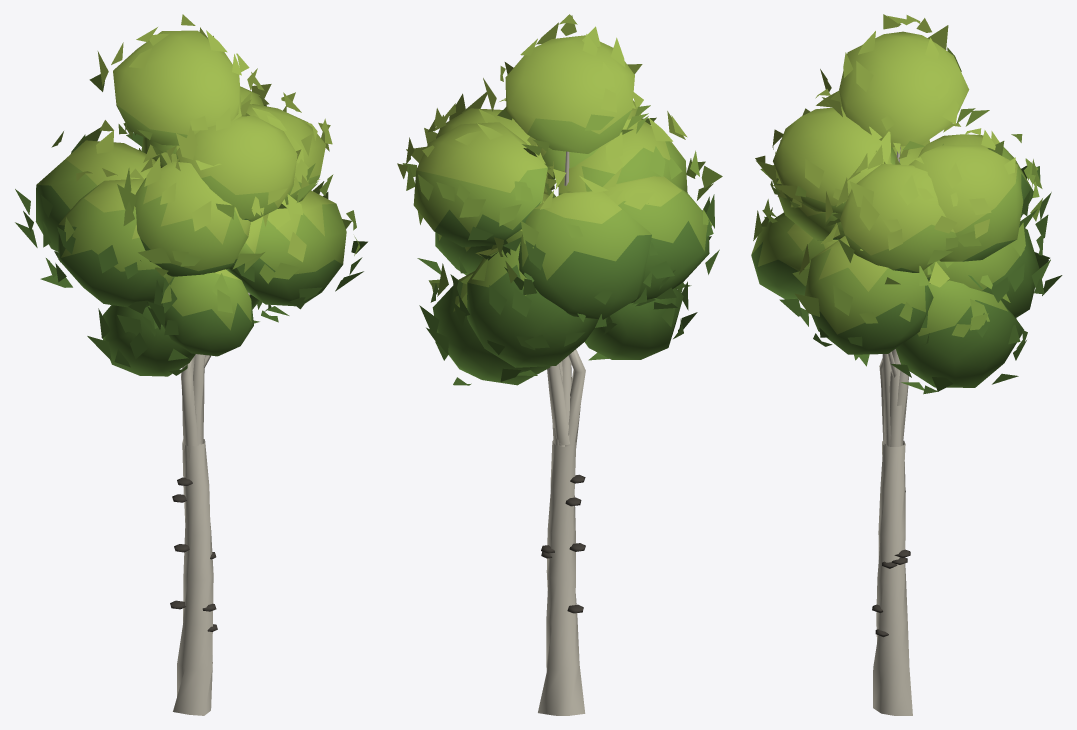
Rendered from BirchA.glb.
3 views of the same model, side by side, from view 1: azimuth 30°, elevation 25°; view 2: azimuth 150°, elevation 25°; view 3: azimuth 270°, elevation 25° (orthographic).
Visible parts, largest first — view 1: BirchA.leafLight, BirchA.leafMid, BirchA.leafDark, BirchA.bark, BirchA.barkMark; view 2: BirchA.leafDark, BirchA.leafLight, BirchA.leafMid, BirchA.bark, BirchA.barkMark; view 3: BirchA.leafLight, BirchA.leafMid, BirchA.leafDark, BirchA.bark.
Part boxes in pixels (box(x1,y1,x2,y2)): BirchA.leafLight: box(66, 14, 335, 280); BirchA.leafMid: box(36, 74, 359, 330); BirchA.leafDark: box(15, 133, 367, 376); BirchA.bark: box(173, 292, 250, 715); BirchA.barkMark: box(170, 477, 217, 631); BirchA.leafDark: box(417, 194, 719, 385); BirchA.leafLight: box(397, 14, 687, 257); BirchA.leafMid: box(402, 105, 722, 311); BirchA.bark: box(538, 151, 585, 715); BirchA.barkMark: box(541, 474, 585, 613); BirchA.leafLight: box(755, 14, 1017, 291); BirchA.leafMid: box(751, 47, 1042, 337); BirchA.leafDark: box(751, 165, 1062, 394); BirchA.bark: box(873, 146, 912, 715).
Bounding box in the file's own units: 12.05 × 26.45 × 10.99.
